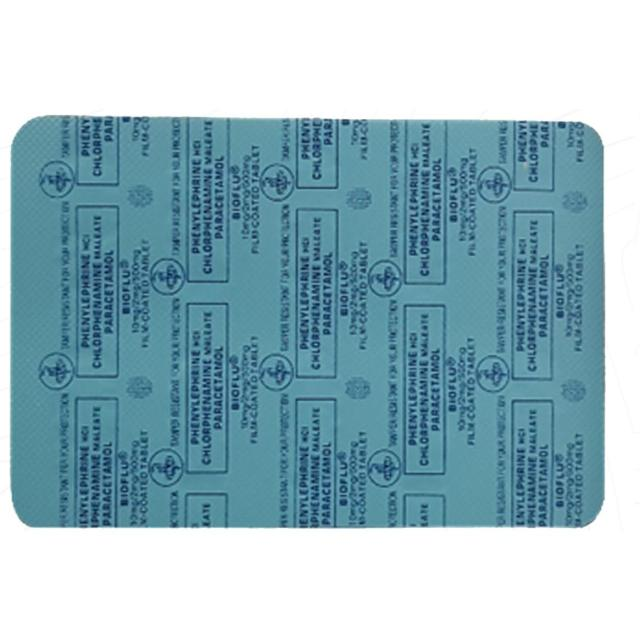blister: (9, 112, 606, 531)
